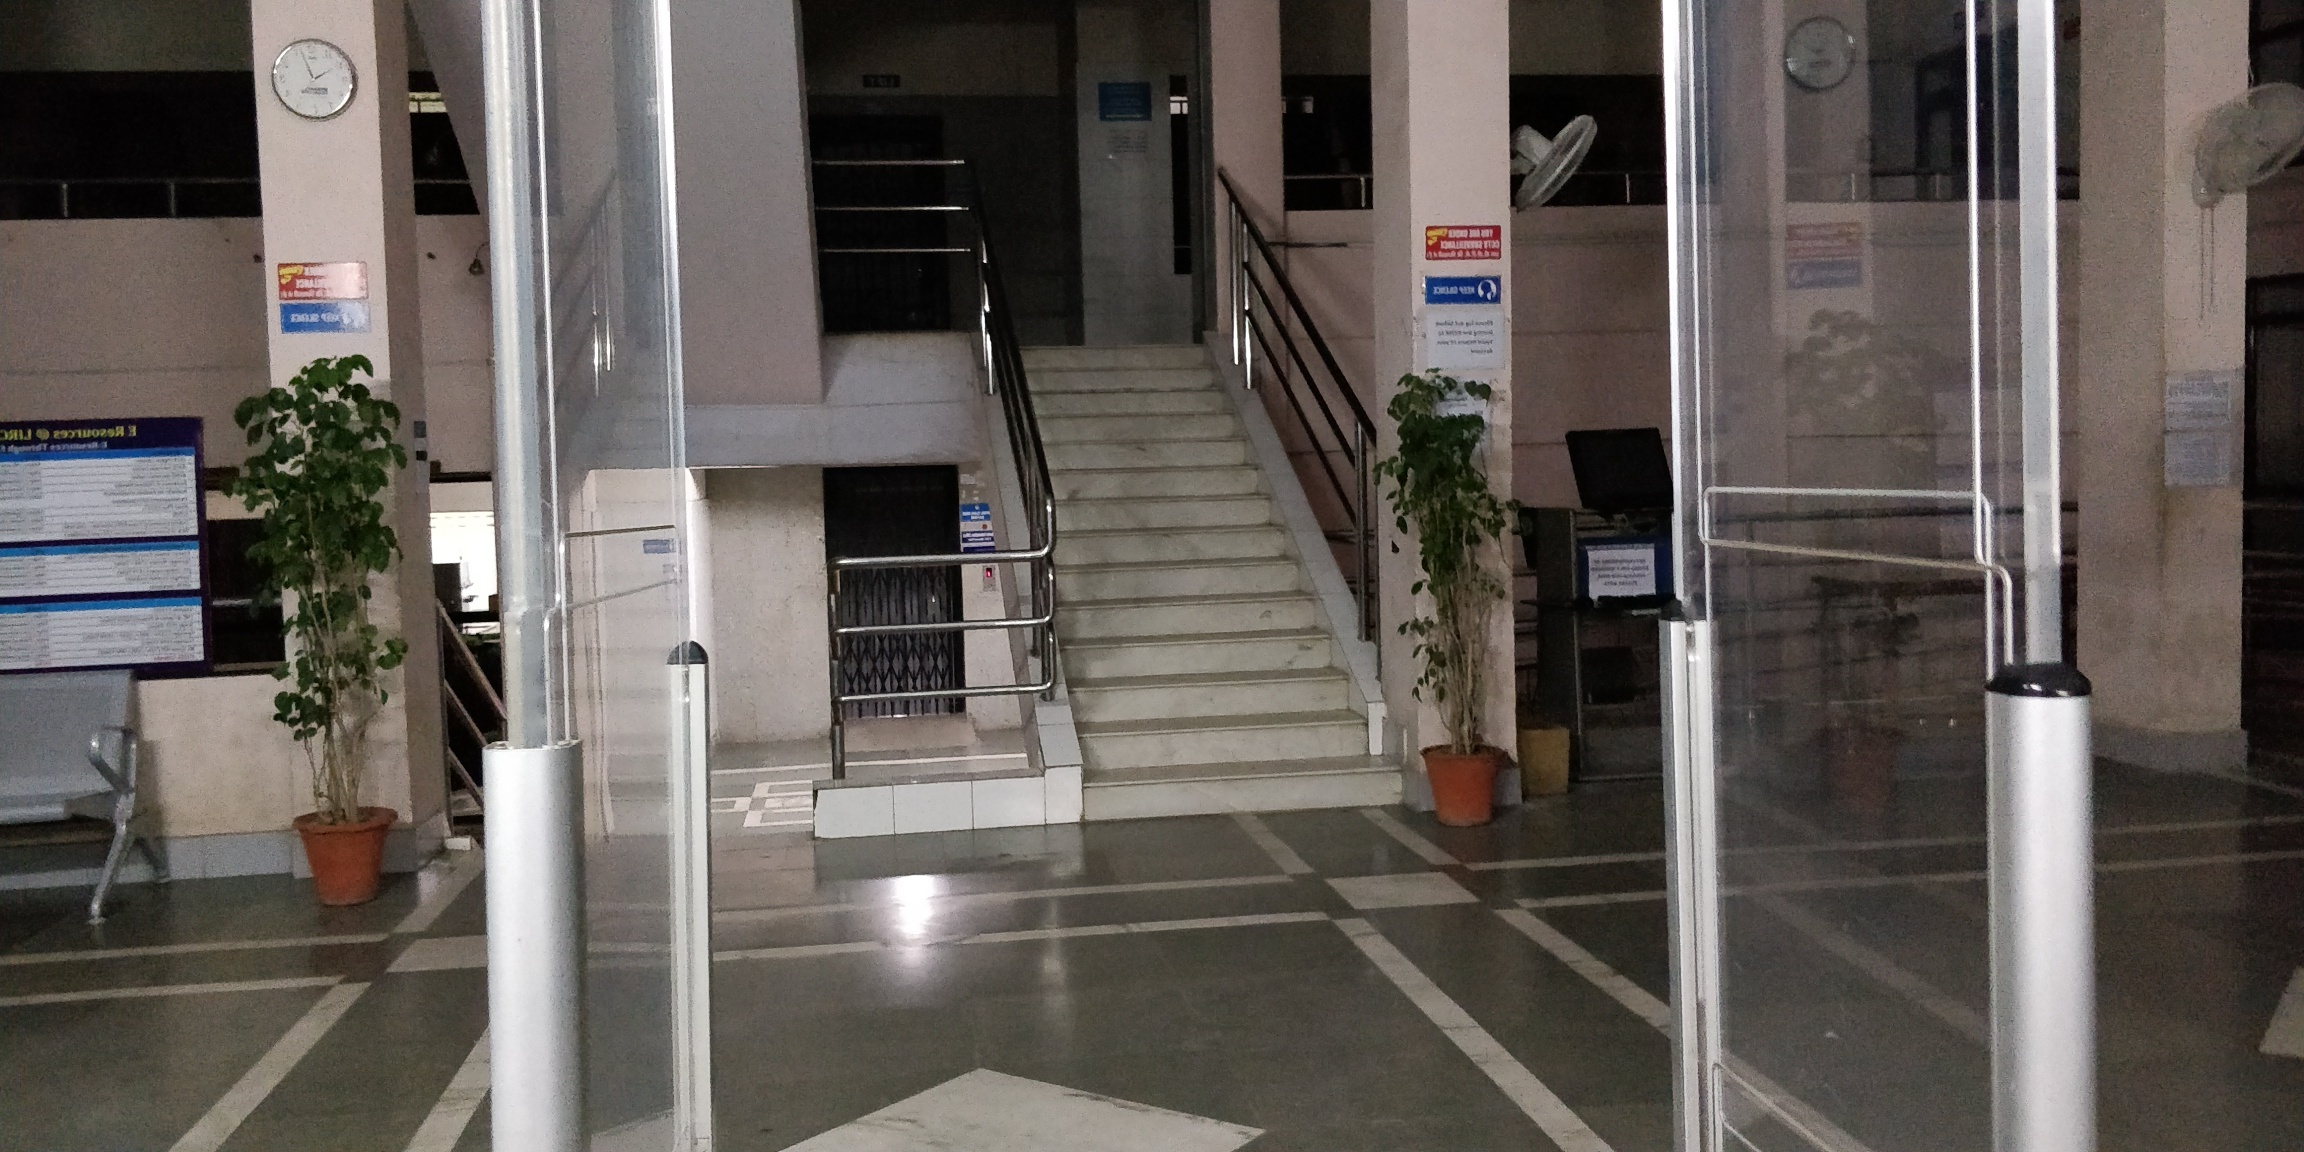stairs_up: (1015, 314, 1392, 830)
